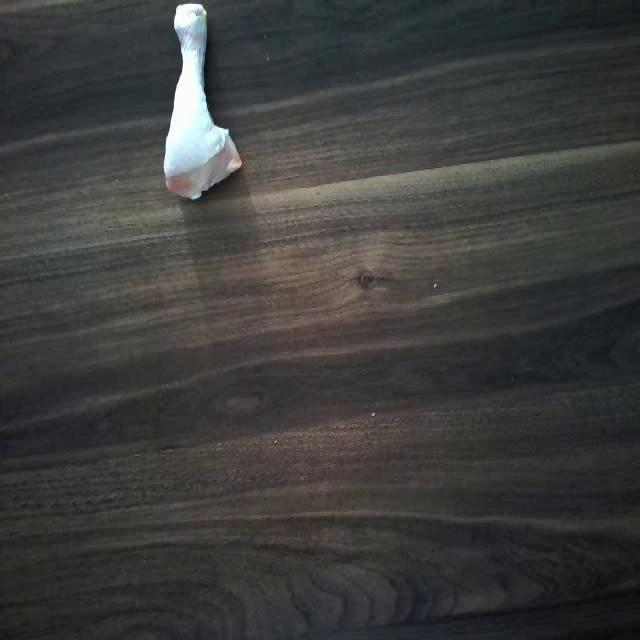leg: (158, 3, 244, 201)
